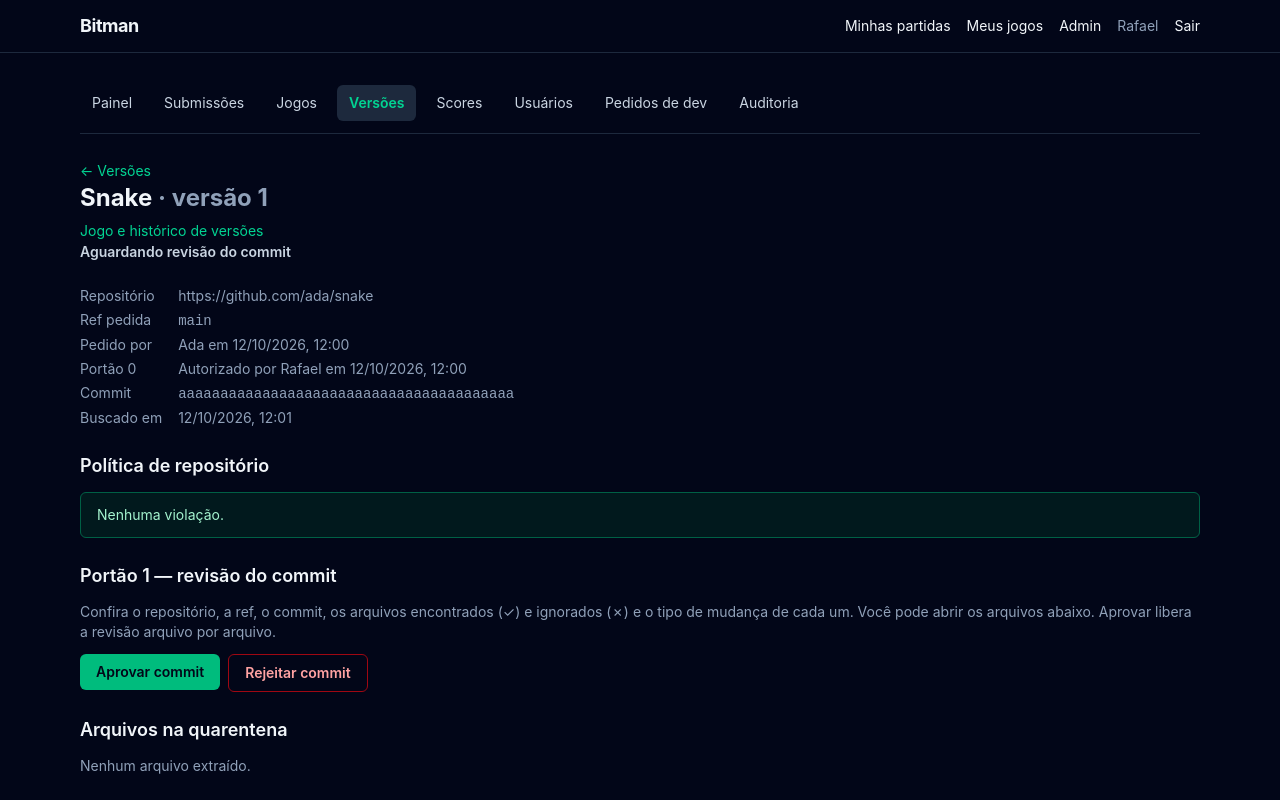
Scenario: VersionPage › Portão 1 › aprova o commit
Click the button "Aprovar commit" at (150, 672), box [80, 654, 220, 690]
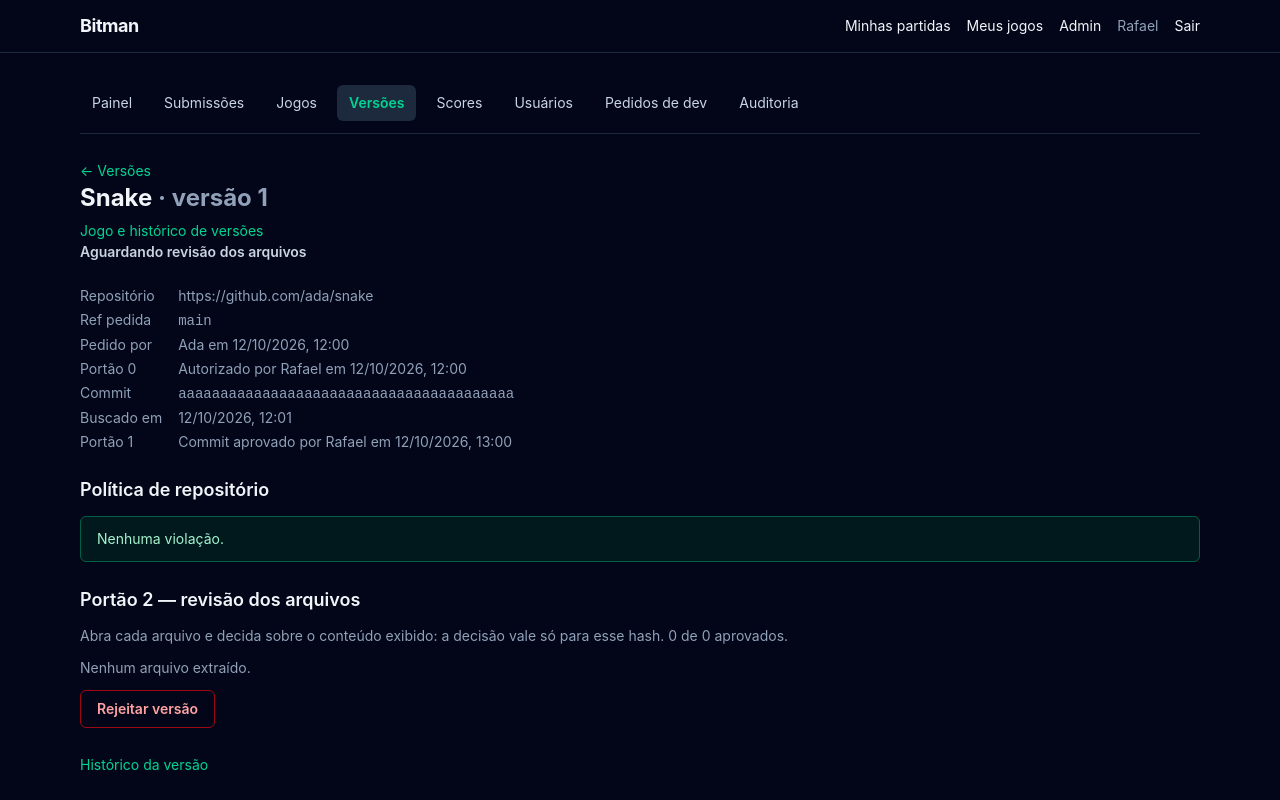
Now the text "Commit aprovado por Rafael em 12/10/2026, 13:00" is shown, box [178, 433, 512, 450]
Now the heading "Portão 2 — revisão dos arquivos" is shown, box [80, 589, 360, 610]
